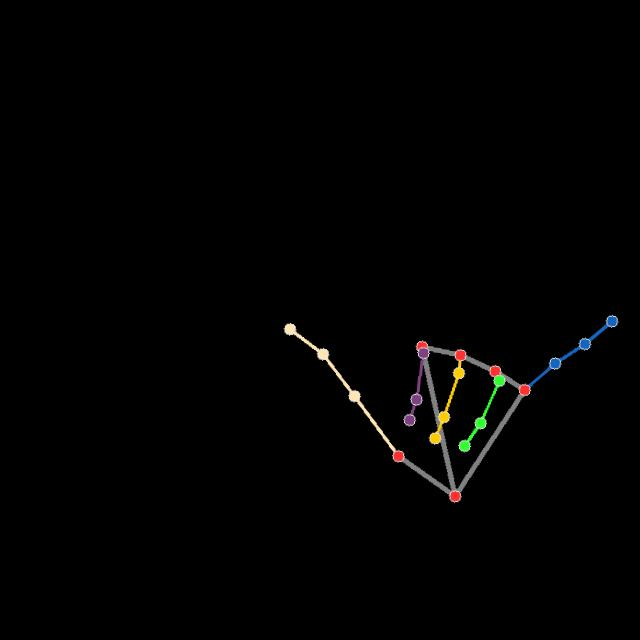skr: (280, 309, 621, 504)
